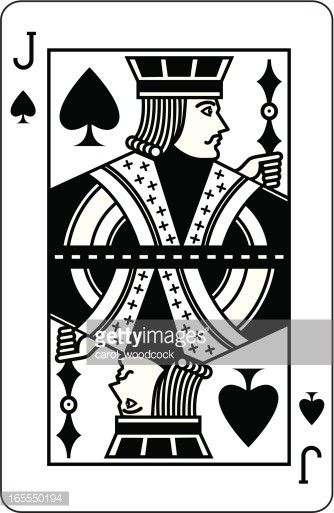jack of spades: (4, 1, 334, 507)
